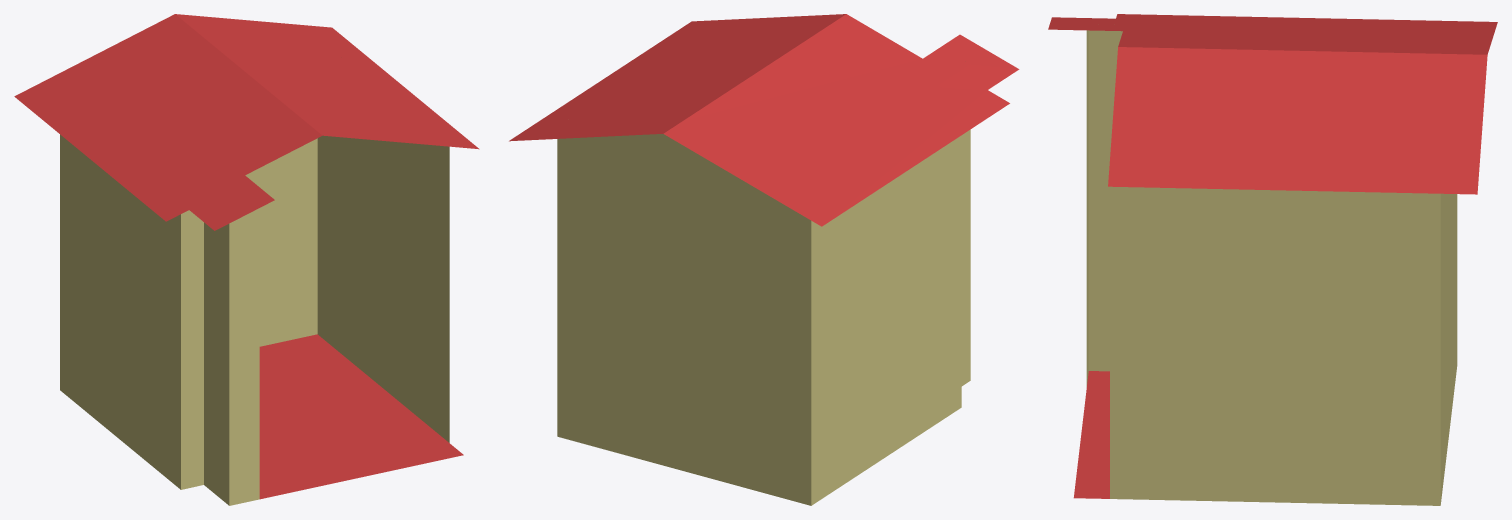
3 renders of one model, left to right at view 1: azimuth 30°, elevation 25°; view 2: azimuth 150°, elevation 25°; view 3: azimuth 270°, elevation 25°, orthographic. The views are drawn at different scales.
Bounding box in the file's own units: 8.25 × 8.69 × 8.17.
